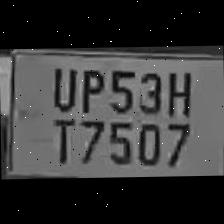0: (134, 118, 162, 165)
3: (134, 66, 163, 115)
5: (102, 64, 134, 114), (102, 117, 133, 165)
7: (73, 114, 102, 164), (161, 118, 190, 168)
H: (162, 64, 194, 118)
P: (76, 64, 105, 114)
T: (46, 113, 77, 166)
U: (46, 61, 78, 112)
